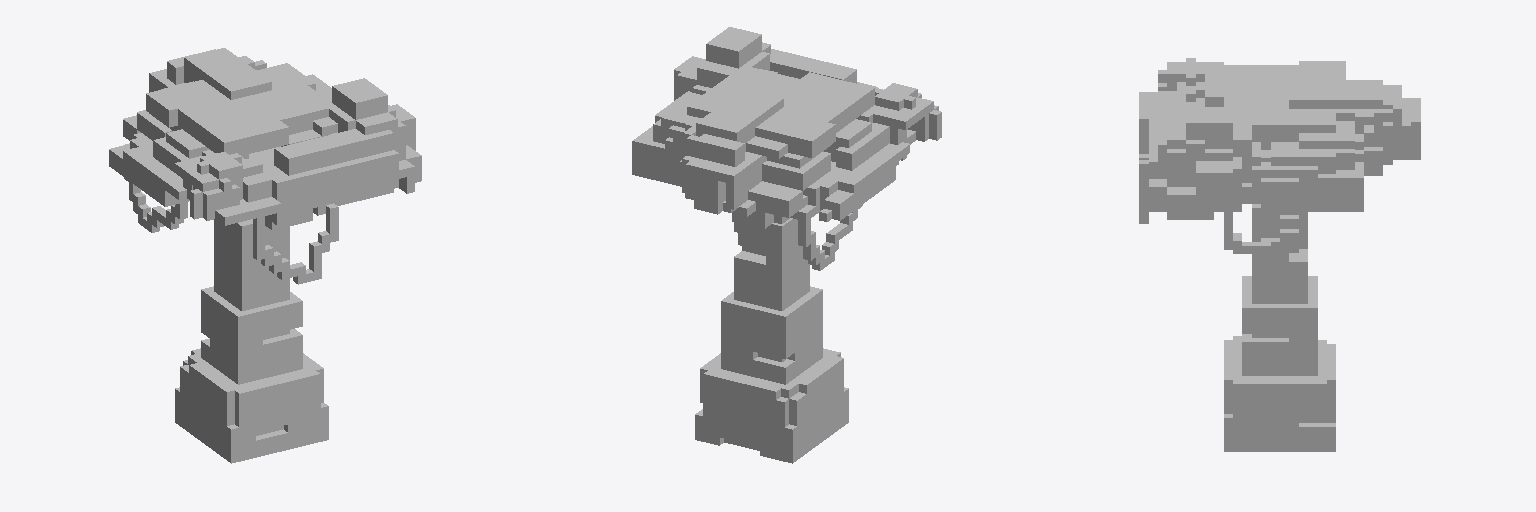
Rendered from tree2.obj.
3 renders of one model, left to right at view 1: azimuth 30°, elevation 25°; view 2: azimuth 150°, elevation 25°; view 3: azimuth 270°, elevation 25°, orthographic.
Visible parts, largest first — view 1: object 1; view 2: object 1; view 3: object 1.
Boxes of the visible parts, x1=… form: object 1: x1=109, y1=48, x2=421, y2=463; object 1: x1=632, y1=27, x2=941, y2=463; object 1: x1=1139, y1=58, x2=1420, y2=451.
Size of the model in its own units: 2.9 by 4.1 by 3.